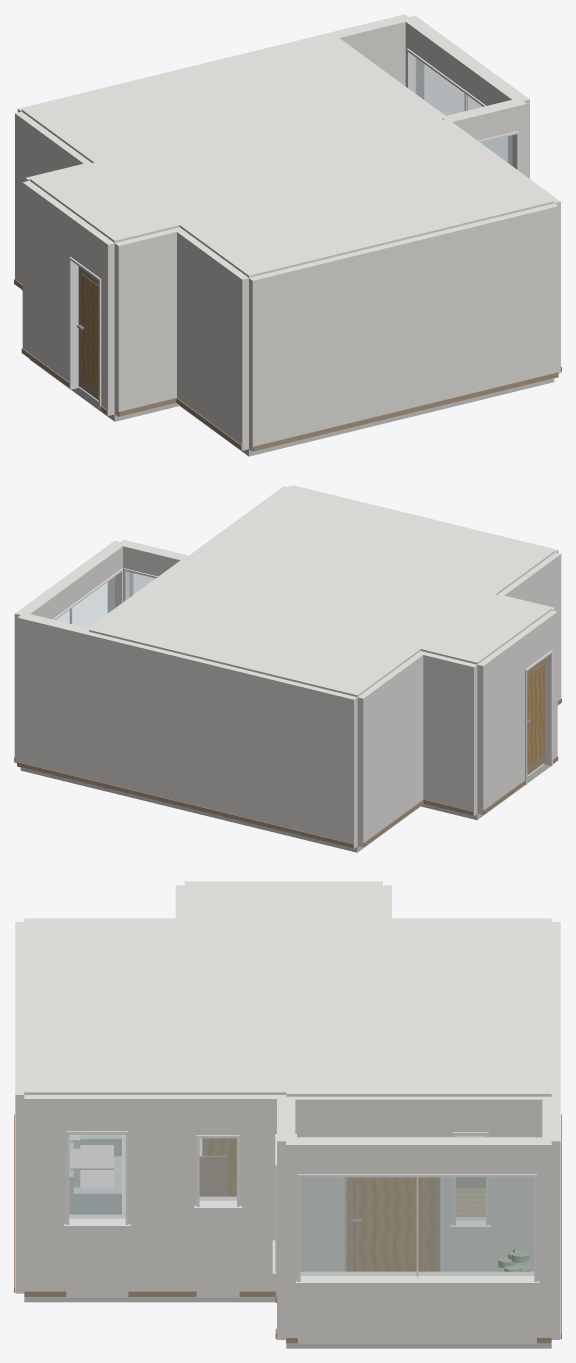
Rendered from one-07.glb.
3 views of the same model, one above another, from view 1: azimuth 30°, elevation 25°; view 2: azimuth 150°, elevation 25°; view 3: azimuth 270°, elevation 25° (orthographic). The views are drawn at different scales.
Visible parts, largest first — view 1: 一居07_architecture_plaster, 一居07_ceiling_plaster, 一居07_frames_ceramic, 一居07_trim_wood, 一居07_glass_glass, 一居07_slab_slab, 门扇_entry_oak, 门扇_entry_wood; view 2: 一居07_architecture_plaster, 一居07_ceiling_plaster, 一居07_trim_wood, 一居07_frames_ceramic, 一居07_slab_slab, 一居07_glass_glass, 门扇_entry_oak; view 3: 一居07_architecture_plaster, 一居07_ceiling_plaster, 一居07_glass_glass, 门扇_bal-door_oak, 一居07_frames_marble, 一居07_frames_ceramic, 一居07_slab_slab, 一居07_furniture_fabric, 一居07_furniture_linen, 一居07_trim_wood, 一居07_furniture_wood, 一居07_floor_oak (+2 smaller).
Part boxes in pixels (bbox=[...]): 一居07_architecture_plaster: bbox=[15, 14, 560, 451]; 一居07_ceiling_plaster: bbox=[21, 34, 554, 277]; 一居07_frames_ceramic: bbox=[69, 48, 519, 411]; 一居07_trim_wood: bbox=[14, 279, 561, 451]; 一居07_glass_glass: bbox=[416, 58, 512, 165]; 一居07_slab_slab: bbox=[22, 290, 554, 456]; 门扇_entry_oak: bbox=[81, 273, 98, 390]; 门扇_entry_wood: bbox=[78, 266, 98, 400]; 一居07_architecture_plaster: bbox=[14, 485, 561, 848]; 一居07_ceiling_plaster: bbox=[89, 486, 555, 697]; 一居07_trim_wood: bbox=[14, 698, 561, 848]; 一居07_frames_ceramic: bbox=[52, 568, 552, 784]; 一居07_slab_slab: bbox=[20, 764, 550, 852]; 一居07_glass_glass: bbox=[56, 572, 154, 627]; 门扇_entry_oak: bbox=[527, 663, 544, 766]; 一居07_architecture_plaster: bbox=[15, 881, 560, 1343]; 一居07_ceiling_plaster: bbox=[24, 882, 551, 1096]; 一居07_glass_glass: bbox=[69, 1135, 533, 1275]; 门扇_bal-door_oak: bbox=[353, 1177, 436, 1271]; 一居07_frames_marble: bbox=[64, 1196, 539, 1285]; 一居07_frames_ceramic: bbox=[66, 1131, 536, 1281]; 一居07_slab_slab: bbox=[24, 1297, 551, 1348]; 一居07_furniture_fabric: bbox=[69, 1134, 485, 1214]; 一居07_furniture_linen: bbox=[70, 1134, 113, 1187]; 一居07_trim_wood: bbox=[14, 1114, 561, 1343]; 一居07_furniture_wood: bbox=[199, 1156, 514, 1252]; 一居07_floor_oak: bbox=[343, 1177, 485, 1271].
Size of the model in its own units: 7.9 by 2.91 by 6.87.
Materials: 17 (2 with a texture image).
